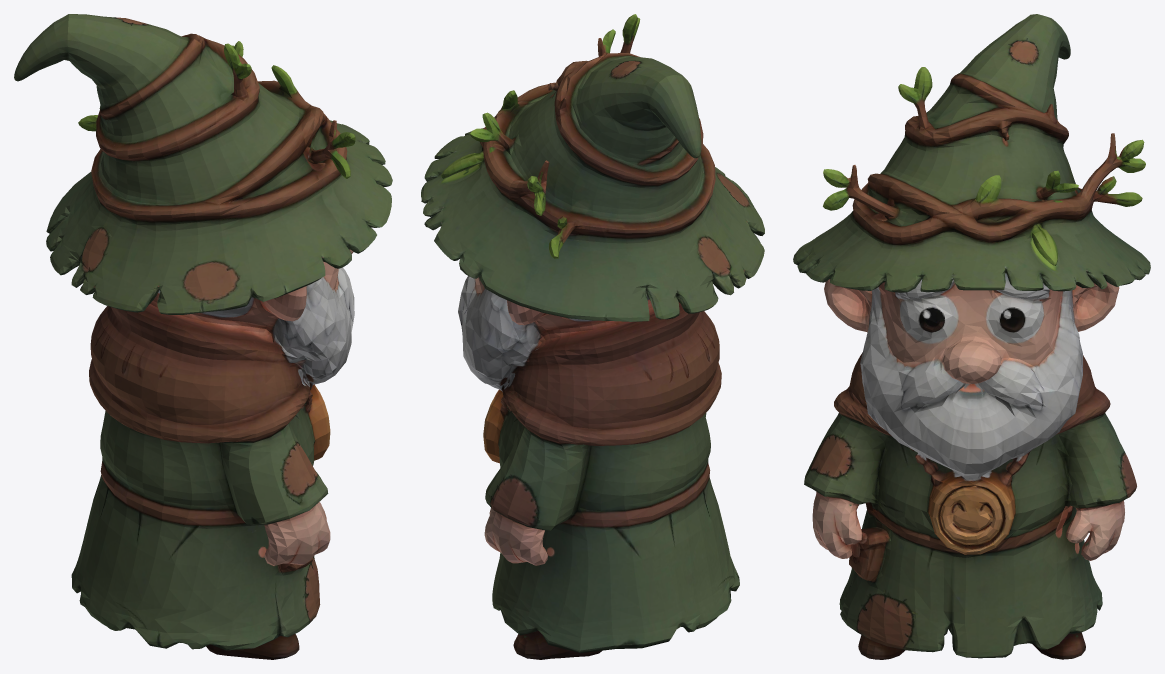
File: druid+clean.glb
The picture shows the model from 3 angles, left to right: view 1: azimuth 30°, elevation 25°; view 2: azimuth 150°, elevation 25°; view 3: azimuth 270°, elevation 25°; orthographic projection. The views are drawn at different scales.
Parts seen in each view (by area): view 1: tripo_node_03239242-ed5f-4bc3-8c8e-4884fc7f726f; view 2: tripo_node_03239242-ed5f-4bc3-8c8e-4884fc7f726f; view 3: tripo_node_03239242-ed5f-4bc3-8c8e-4884fc7f726f.
Part boxes in pixels (x1,y1,x2,y2): tripo_node_03239242-ed5f-4bc3-8c8e-4884fc7f726f: (14, 14, 392, 659); tripo_node_03239242-ed5f-4bc3-8c8e-4884fc7f726f: (421, 14, 764, 659); tripo_node_03239242-ed5f-4bc3-8c8e-4884fc7f726f: (793, 14, 1150, 659).
Bounding box in the file's own units: 0.5228 × 1 × 0.5593.
Materials: 1 (1 with a texture image).
